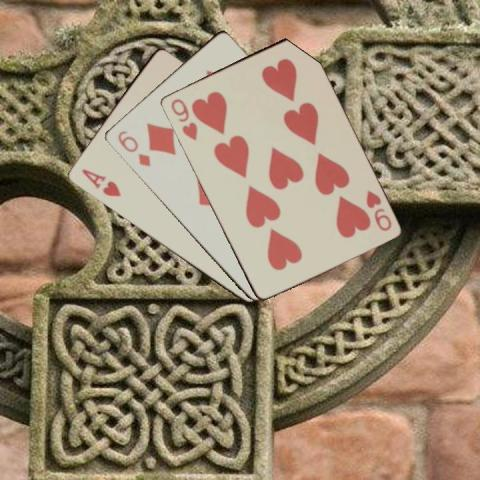6d: (114, 127, 152, 168)
9h: (167, 95, 199, 143), (362, 186, 392, 232)
Ah: (78, 165, 122, 199)
